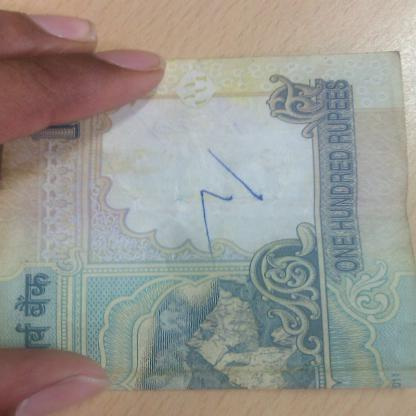Old100Back: (0, 51, 416, 391)
